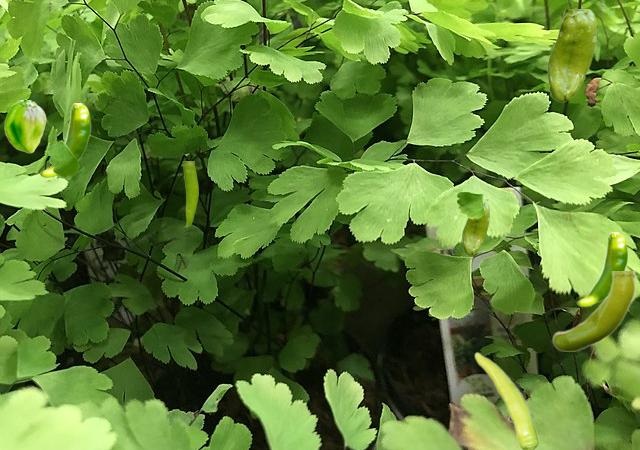green_chili: (551, 271, 636, 350), (474, 351, 537, 448), (547, 9, 595, 101), (576, 232, 627, 306), (39, 103, 90, 177), (4, 100, 45, 152), (462, 202, 488, 254), (182, 161, 197, 226)
